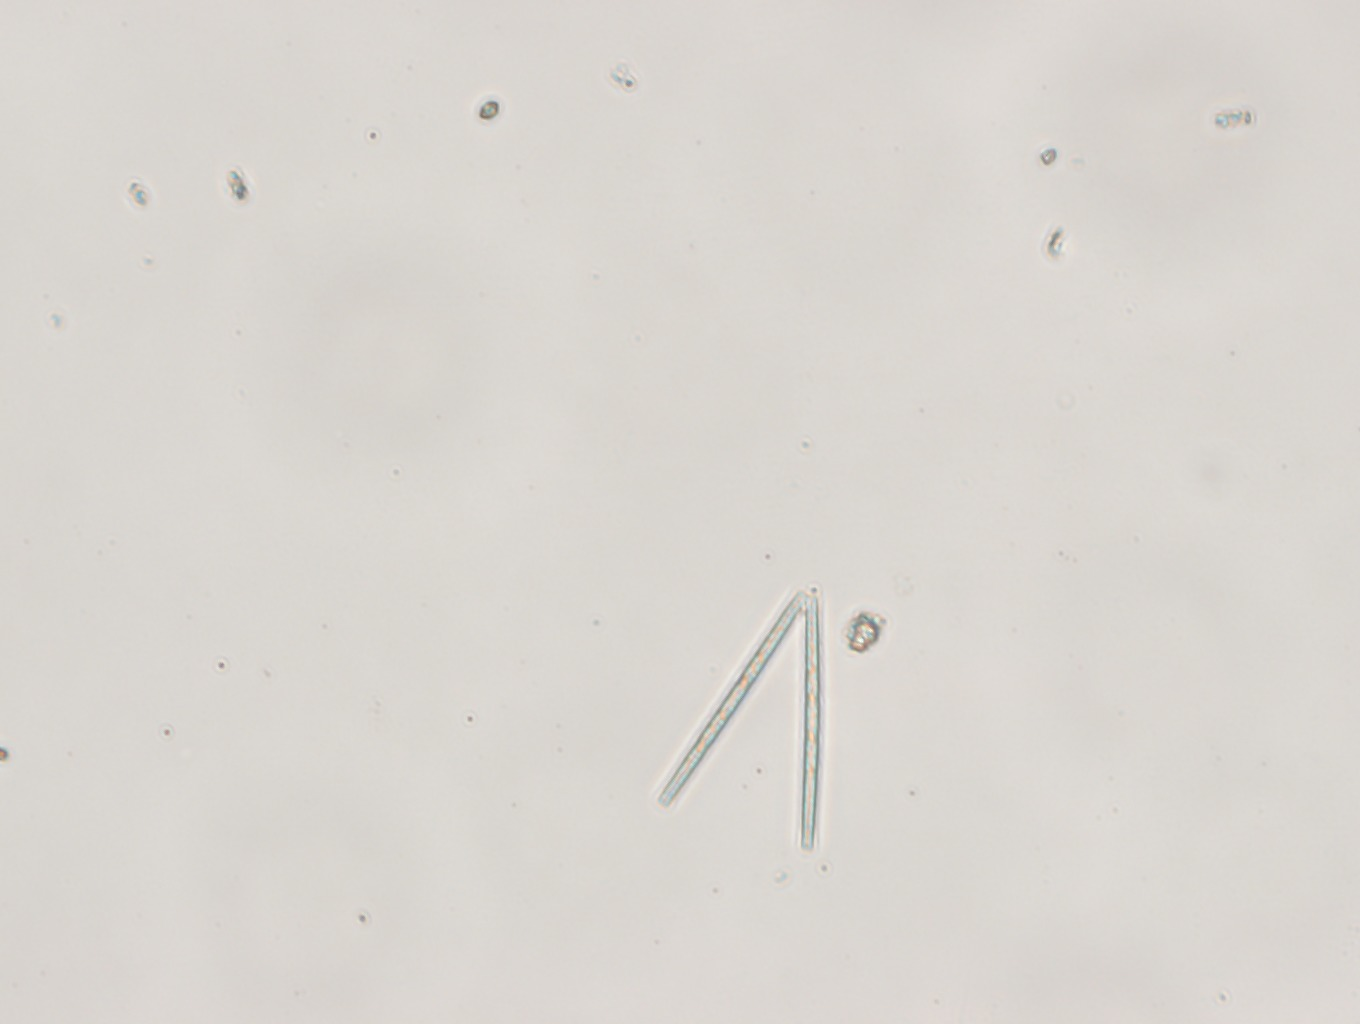thalassionema frauenfeldii: (647, 580, 842, 858)
